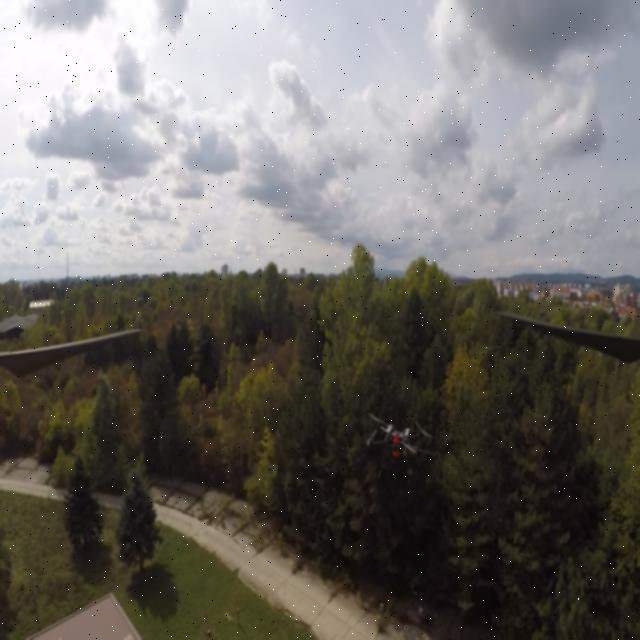UAV: (362, 410, 438, 482)
